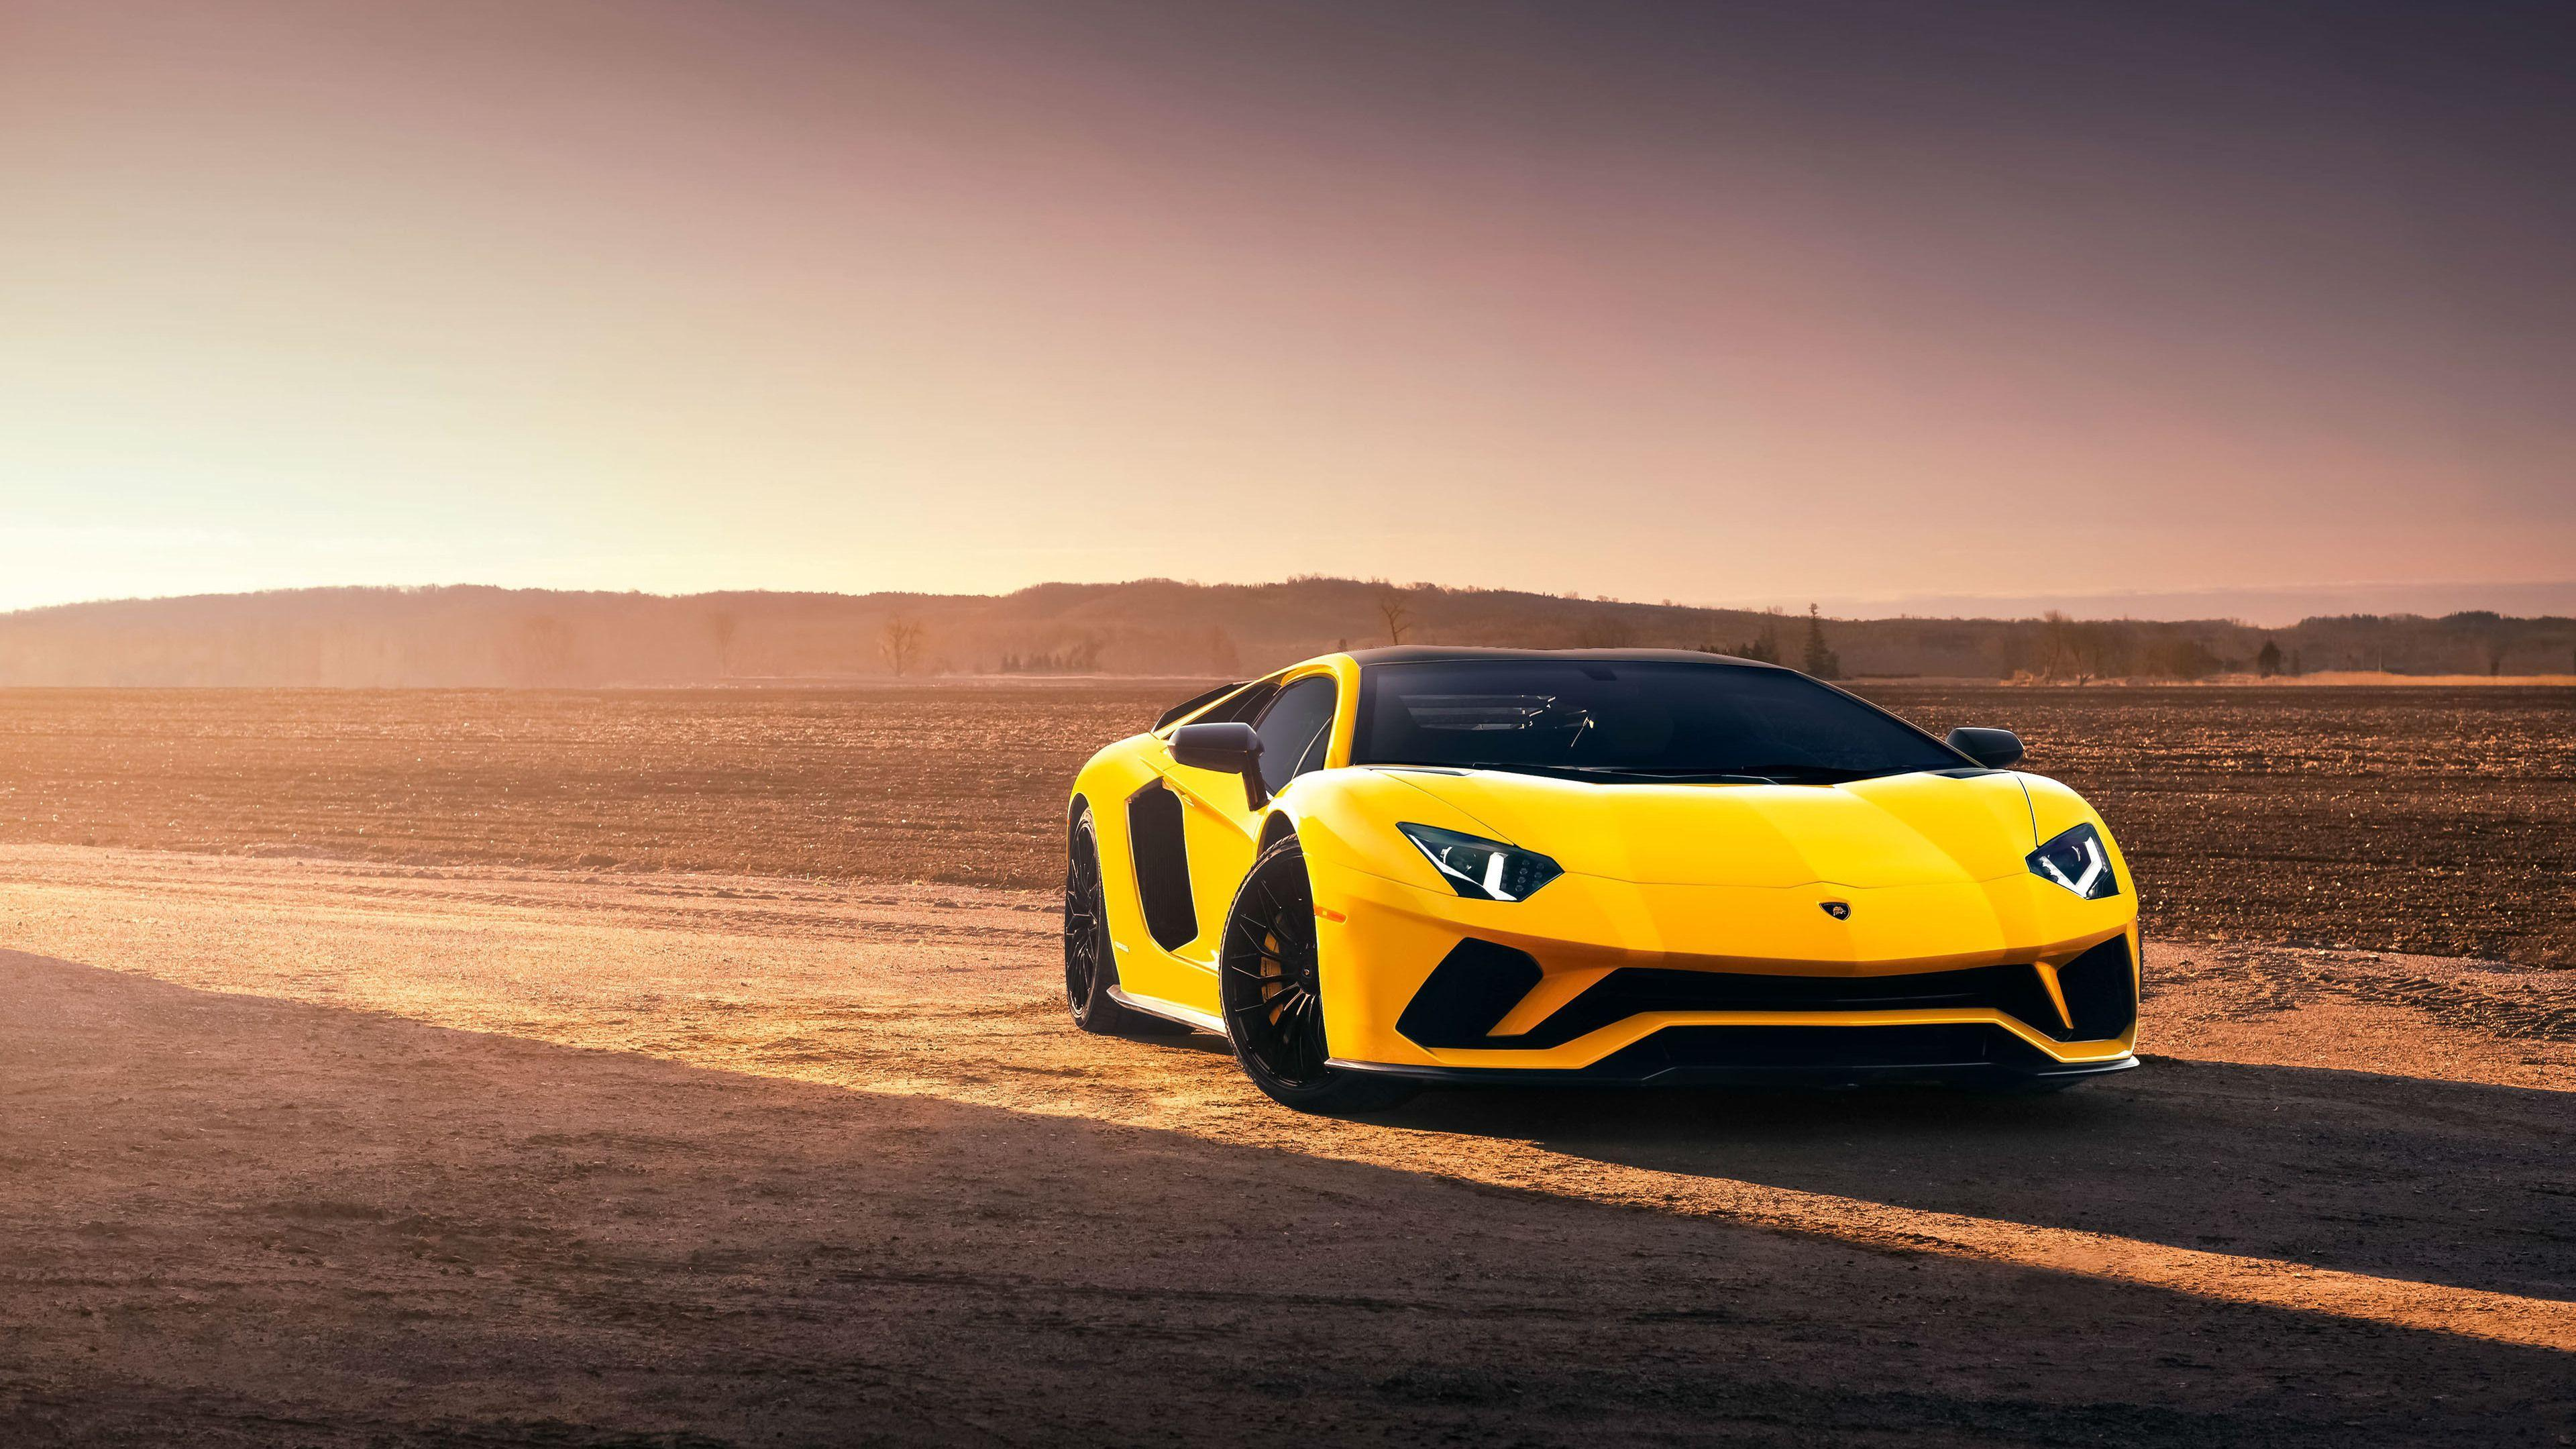Car: (985, 626, 2355, 1219)
